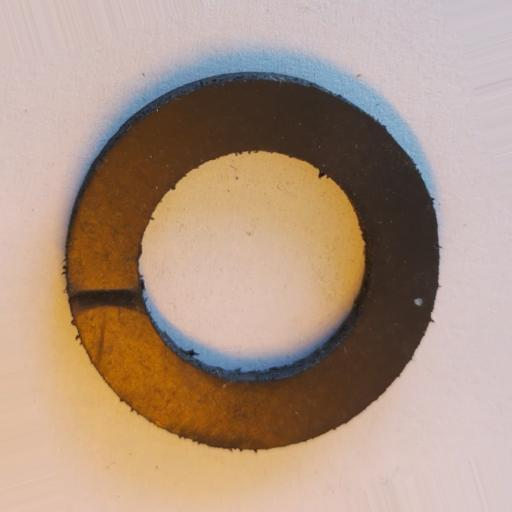defect: (66, 286, 150, 323)
